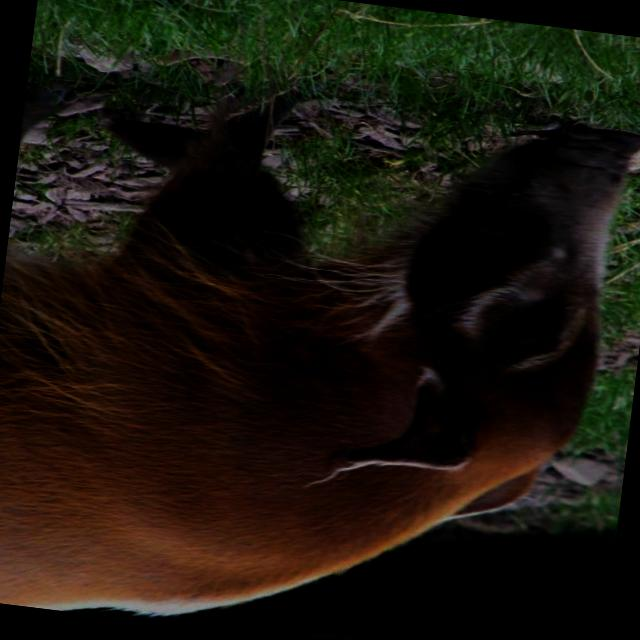pig: (0, 100, 640, 614)
